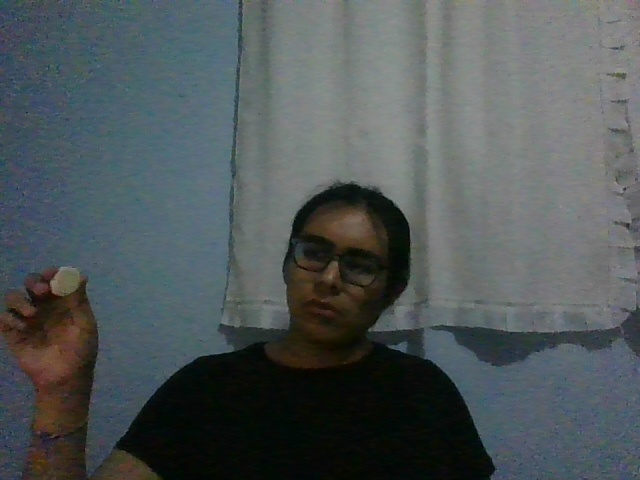goma: (49, 267, 80, 297)
